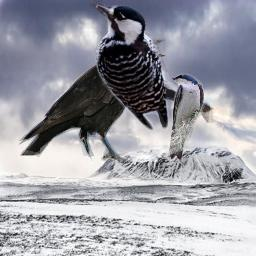Crow: (18, 37, 168, 166)
Swallow: (167, 73, 205, 160)
Woodpecker: (90, 0, 214, 131)
